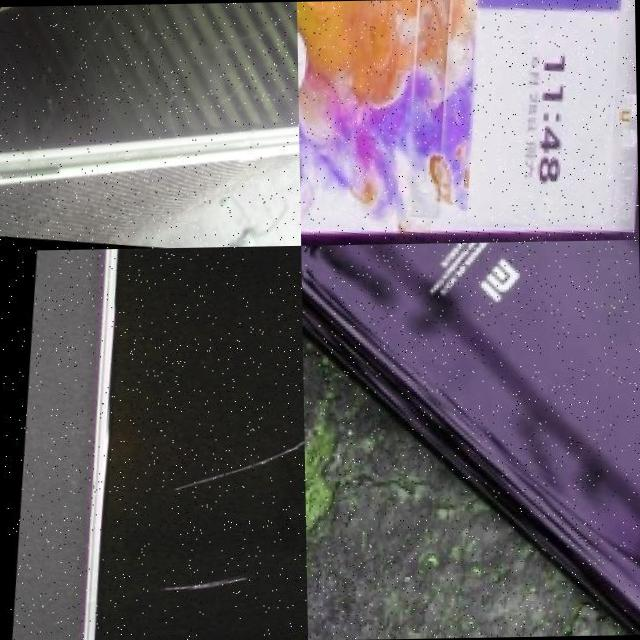scratch: (163, 424, 304, 512), (153, 575, 253, 608)
